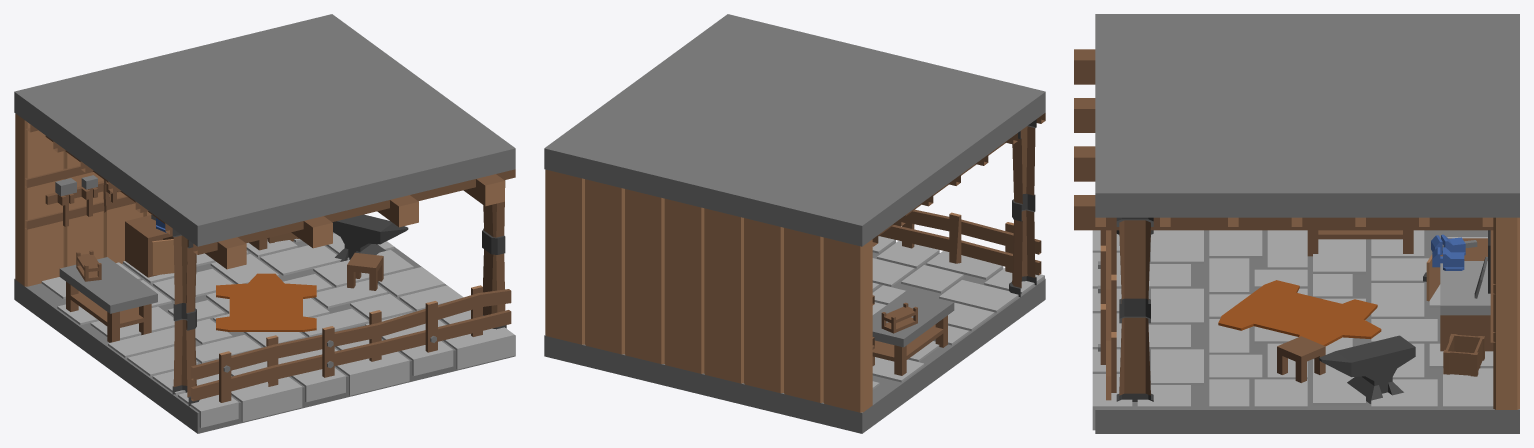
Rendered from WeaponWorkshop_Lvl_01_StraightLeftRight.fbx.
3 views of the same model, side by side, from view 1: azimuth 30°, elevation 25°; view 2: azimuth 150°, elevation 25°; view 3: azimuth 270°, elevation 25° (orthographic). The views are drawn at different scales.
Parts seen in each view (by area): view 1: WeaponWorkshop_Lvl_01_StraightLeftRight; view 2: WeaponWorkshop_Lvl_01_StraightLeftRight; view 3: WeaponWorkshop_Lvl_01_StraightLeftRight.
Boxes of the visible parts, x1,y1,x2,y2 form: WeaponWorkshop_Lvl_01_StraightLeftRight: (14,14,515,433); WeaponWorkshop_Lvl_01_StraightLeftRight: (544,14,1045,433); WeaponWorkshop_Lvl_01_StraightLeftRight: (1074,14,1519,433).
Size of the model in its own units: 8 by 5 by 8.4.
